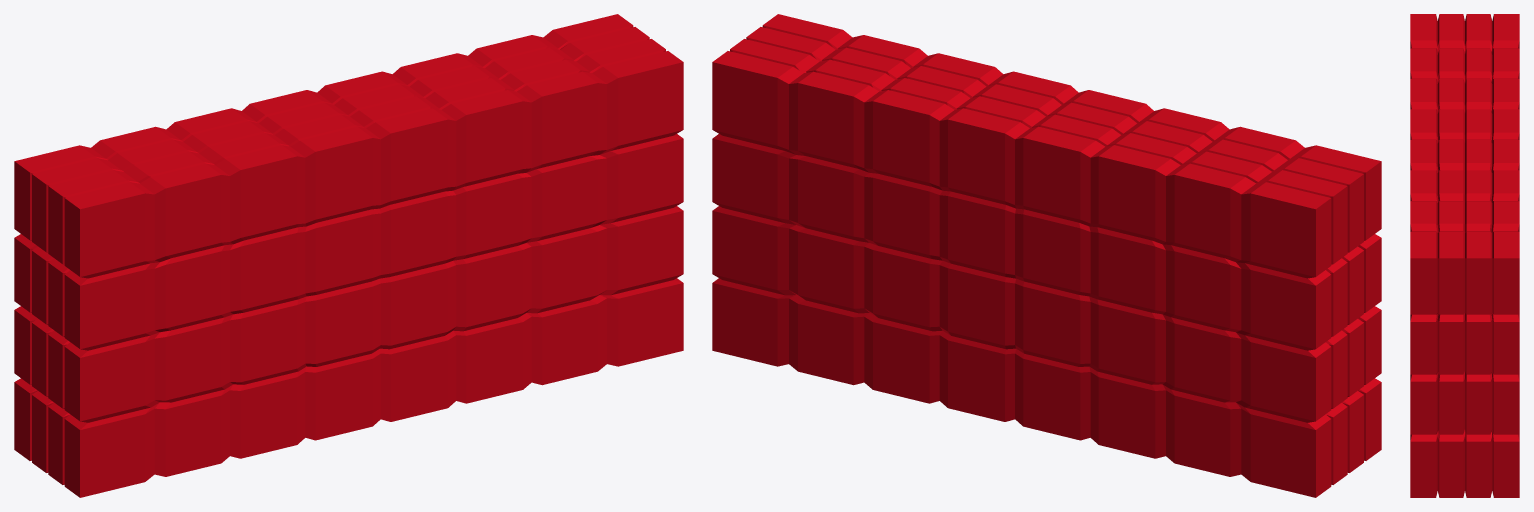
File: Block.fbx
The picture shows the model from 3 angles, left to right: view 1: azimuth 30°, elevation 25°; view 2: azimuth 150°, elevation 25°; view 3: azimuth 270°, elevation 25°; orthographic projection. The views are drawn at different scales.
Parts seen in each view (by area): view 1: Cube; view 2: Cube; view 3: Cube.
Part boxes in pixels (x1=…): Cube: x1=14, y1=14, x2=683, y2=497; Cube: x1=712, y1=14, x2=1381, y2=497; Cube: x1=1410, y1=14, x2=1519, y2=497.
Size of the model in its own units: 3500 by 1600 by 660.
